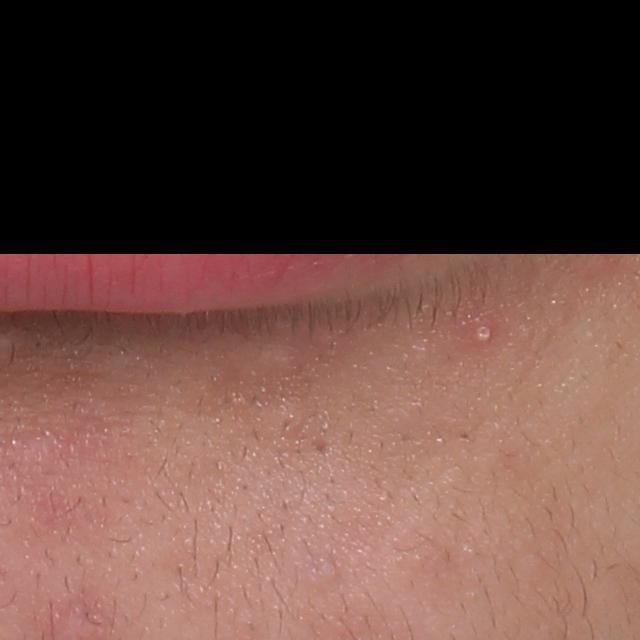atrophic_scar: (306, 436, 329, 453)
pustule: (462, 310, 505, 350)
